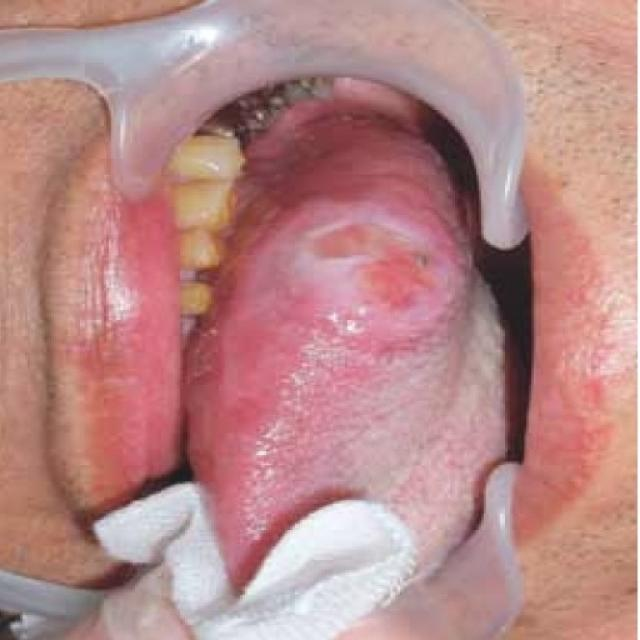leukoplakia-like-detection: (239, 197, 478, 400)
processing_area: (92, 80, 502, 580)
